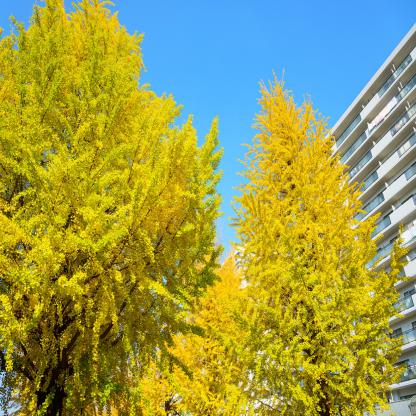Tree: (0, 0, 226, 416), (219, 72, 414, 416), (169, 227, 270, 415)
